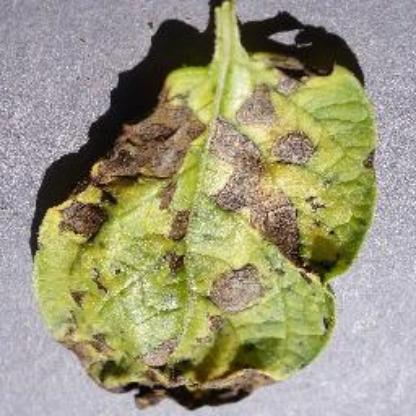Early-Blight: (29, 0, 388, 408)
